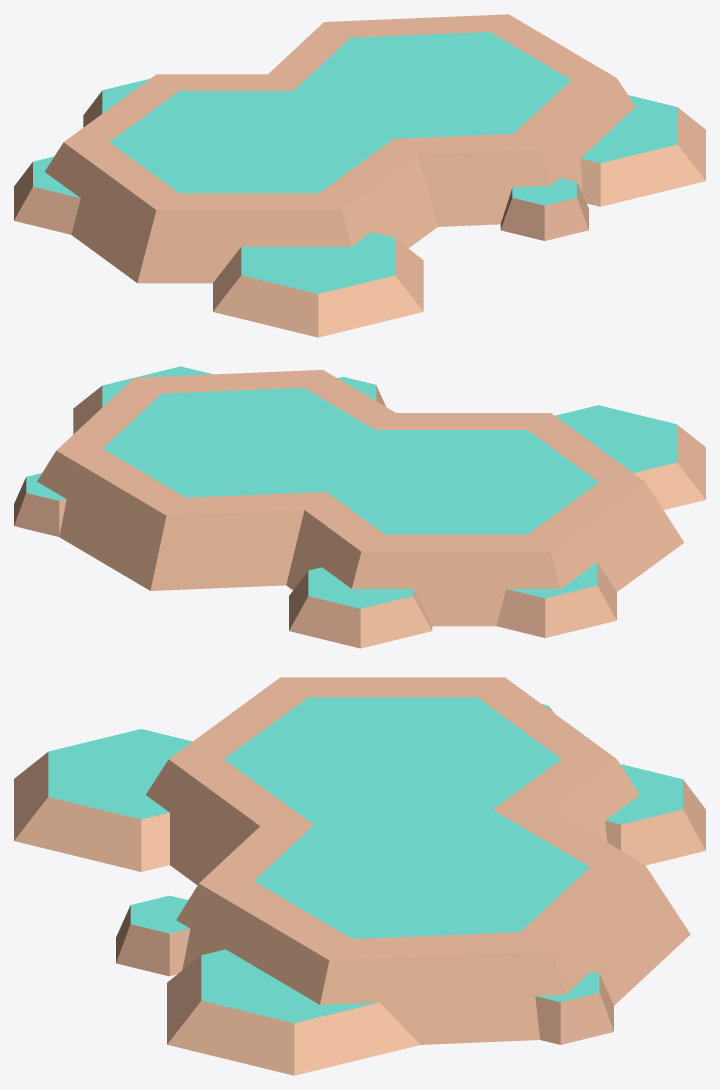
File: platform_grass.glb
The picture shows the model from 3 angles, top to bottom: view 1: azimuth 30°, elevation 25°; view 2: azimuth 150°, elevation 25°; view 3: azimuth 270°, elevation 25°; orthographic projection. The views are drawn at different scales.
Visible parts, largest first — view 1: platform_grass; view 2: platform_grass; view 3: platform_grass.
Part boxes in pixels (x1=…): platform_grass: x1=14, y1=14, x2=705, y2=337; platform_grass: x1=14, y1=366, x2=705, y2=648; platform_grass: x1=14, y1=677, x2=705, y2=1075.
Bounding box in the file's own units: 0.8932 × 0.0825 × 0.7239.
